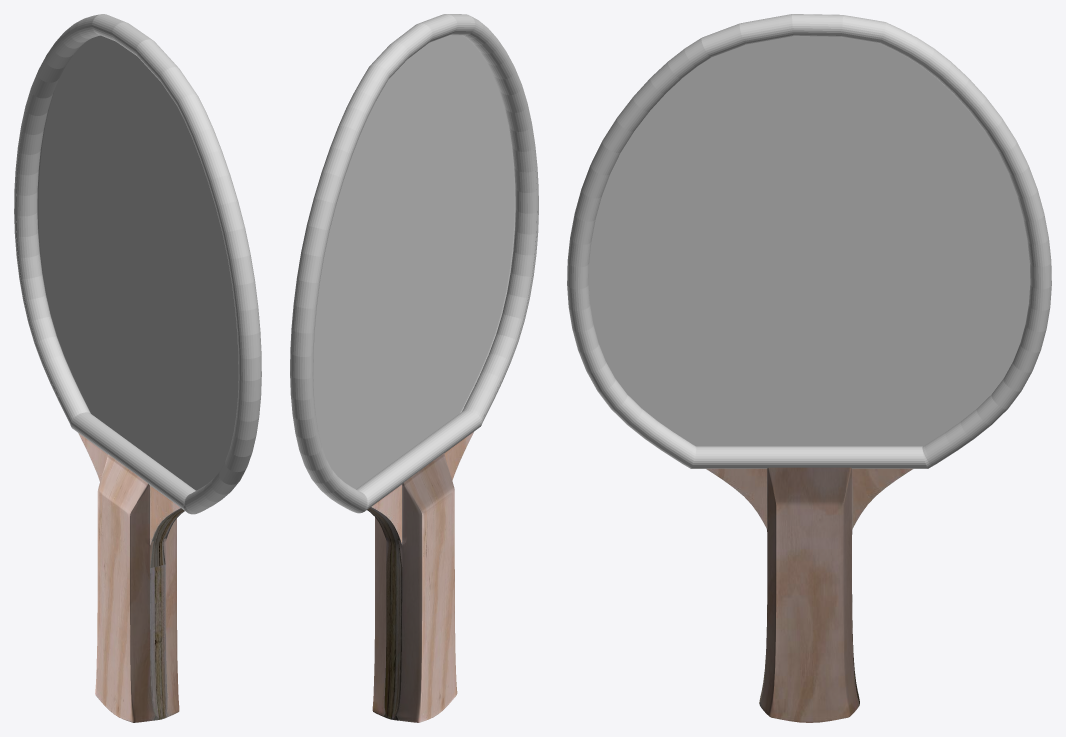
Rendered from paddle_wold1.glb.
3 renders of one model, left to right at view 1: azimuth 30°, elevation 25°; view 2: azimuth 150°, elevation 25°; view 3: azimuth 270°, elevation 25°, orthographic. The views are drawn at different scales.
Parts seen in each view (by area): view 1: face_2.002, bordi.004, manico.002; view 2: face_2.002, bordi.004, manico.002; view 3: face_1.002, bordi.004, manico.002.
Boxes of the visible parts, bbox=[...] form: face_2.002: bbox=[37, 35, 238, 490]; bordi.004: bbox=[14, 14, 261, 514]; manico.002: bbox=[78, 433, 184, 722]; face_2.002: bbox=[313, 35, 515, 489]; bordi.004: bbox=[290, 14, 538, 513]; manico.002: bbox=[367, 431, 474, 722]; face_1.002: bbox=[588, 36, 1030, 446]; bordi.004: bbox=[567, 14, 1051, 468]; manico.002: bbox=[706, 467, 913, 722].
Bounding box in the file's own units: 2.08 × 28.53 × 18.01.
1 material, 1 textured.
